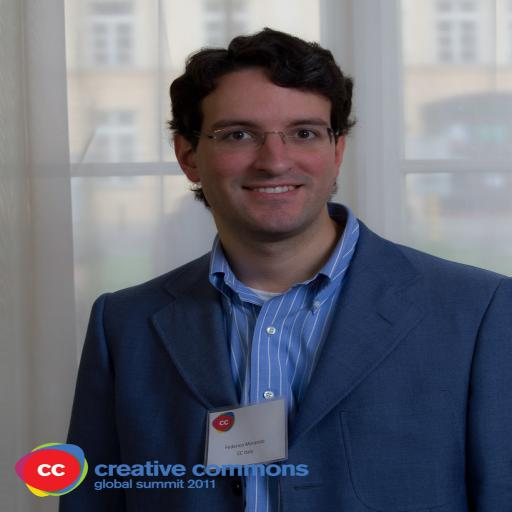Person: (73, 18, 485, 497)
no_goggle: (191, 110, 330, 158)
no_helmet: (175, 24, 351, 169)
none: (77, 189, 470, 512)
